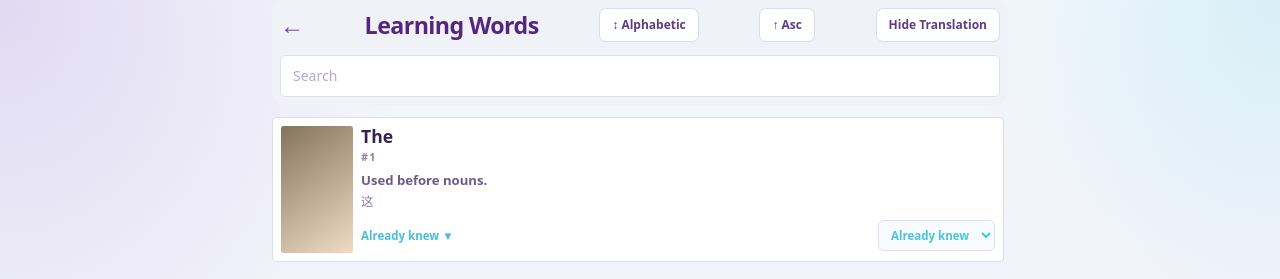
Test: KnowledgeListPage › cycles sort basis and toggles ascending or descending order
Click the button with test id "knowledge-list-sort-button".
click(649, 25)  # box [599,8,699,42]
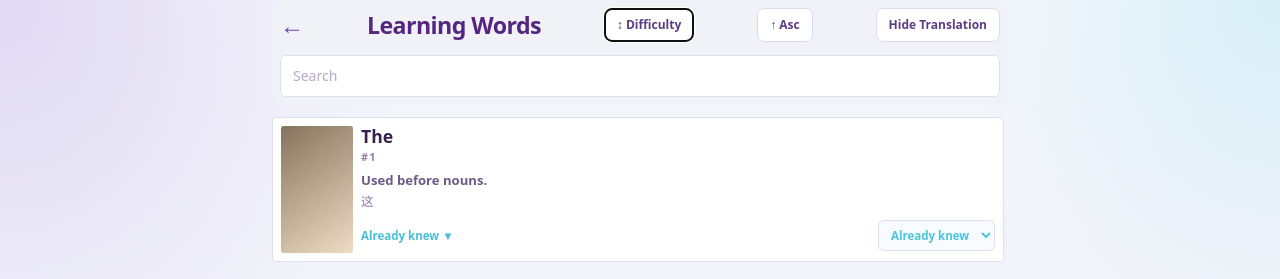
Result: the button with test id "knowledge-list-sort-button" shows "Difficulty" at [604,8,694,42]
Click the button with test id "knowledge-list-order-button".
click(785, 25)  # box [757,8,813,42]
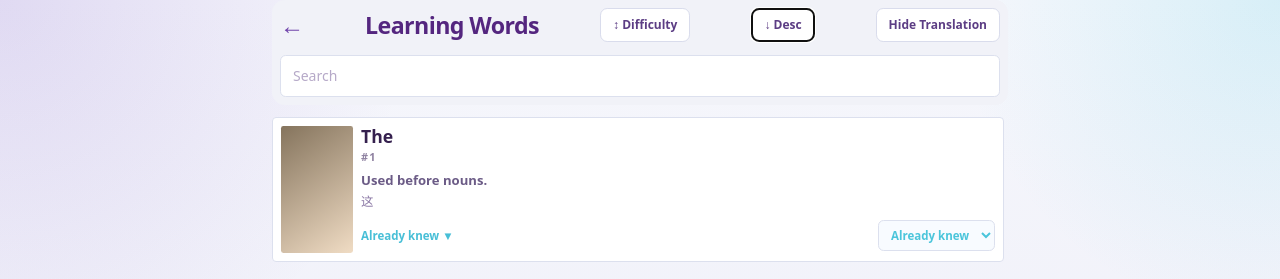
Result: the button with test id "knowledge-list-order-button" shows "Desc" at [751,8,815,42]
Click the button with test id "knowledge-list-sort-button".
click(645, 25)  # box [600,8,690,42]
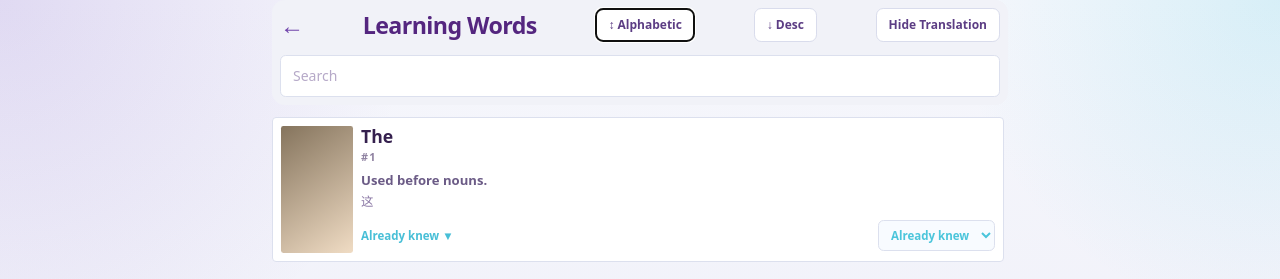
Result: the button with test id "knowledge-list-sort-button" shows "Alphabetic" at [595,8,695,42]
